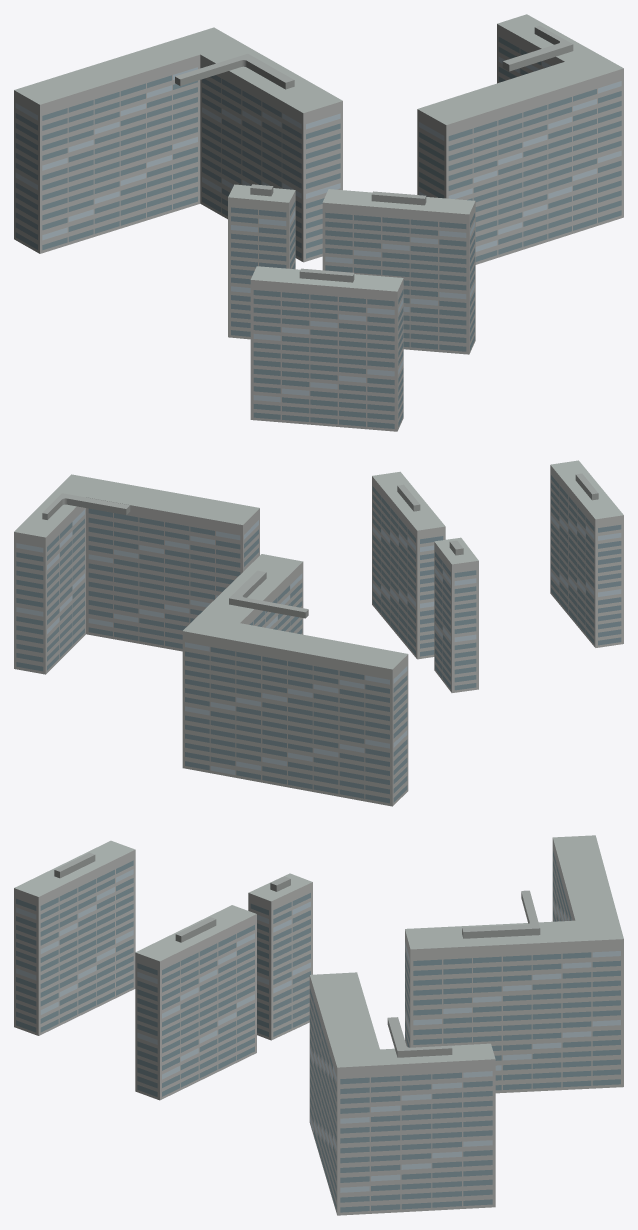
File: apt-a13283405.glb
3 renders of one model, top to bottom at view 1: azimuth 30°, elevation 25°; view 2: azimuth 150°, elevation 25°; view 3: azimuth 270°, elevation 25°, orthographic. The views are drawn at different scales.
Parts seen in each view (by area): view 1: apt-a13283405; view 2: apt-a13283405; view 3: apt-a13283405.
Part boxes in pixels (x1,y1,x2,y2): apt-a13283405: (14, 14, 623, 431); apt-a13283405: (14, 460, 623, 806); apt-a13283405: (14, 835, 623, 1215).
Size of the model in its own units: 156 by 47.81 by 171.
